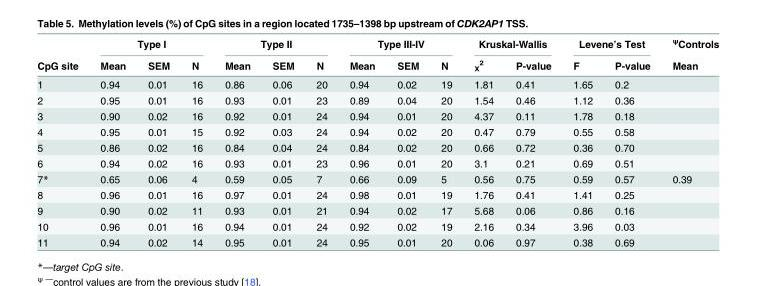table: (36, 36, 718, 247)
table column: (660, 36, 718, 247), (504, 36, 561, 247), (603, 36, 660, 247), (36, 36, 88, 247), (88, 36, 136, 247), (337, 36, 385, 247), (213, 36, 260, 247), (260, 36, 304, 247), (385, 36, 429, 247), (136, 36, 179, 247), (462, 36, 504, 247), (561, 36, 603, 247), (179, 36, 213, 247), (304, 36, 337, 247), (429, 36, 462, 247)
table column header: (36, 36, 718, 75)
table row: (36, 53, 718, 75), (36, 36, 718, 53), (36, 75, 718, 91), (36, 91, 718, 107), (36, 107, 718, 123), (36, 123, 718, 139), (36, 139, 718, 155), (36, 170, 718, 186), (36, 186, 718, 202), (36, 202, 718, 218), (36, 155, 718, 170), (36, 218, 718, 233), (36, 233, 718, 247)
table spanning cell: (660, 36, 718, 75), (88, 36, 213, 53), (337, 36, 462, 53), (213, 36, 337, 53), (36, 36, 88, 75), (462, 36, 561, 53), (561, 36, 660, 53)
